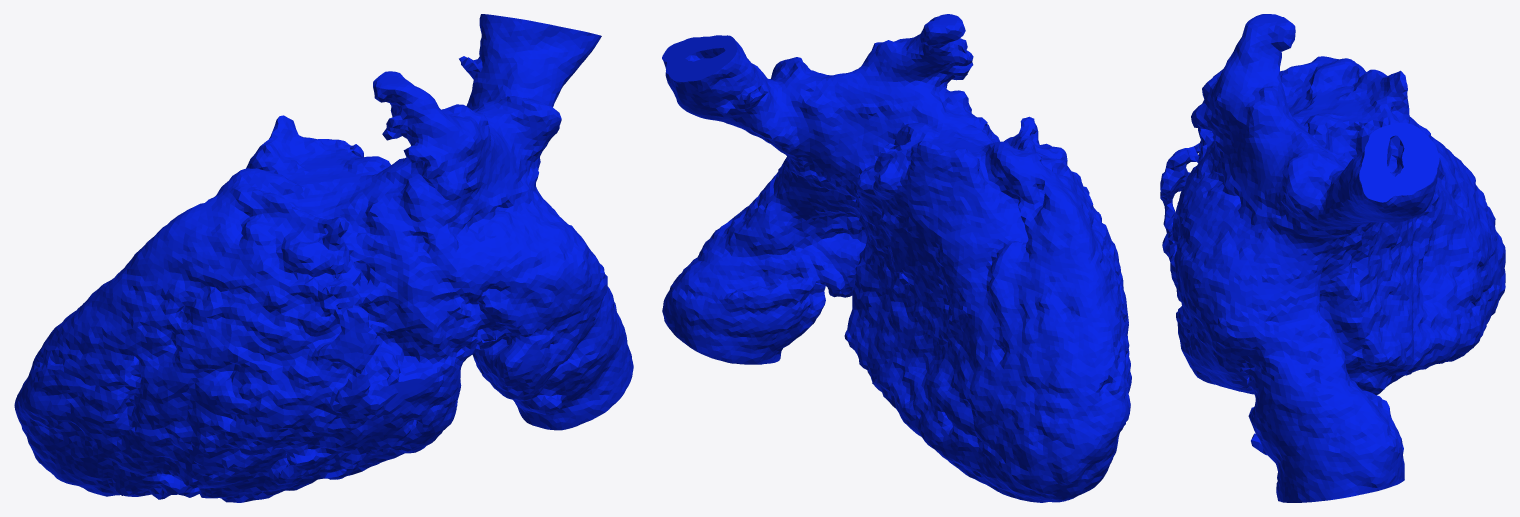
The model's file is BFLS2018004.glb.
3 views of the same model, side by side, from view 1: azimuth 30°, elevation 25°; view 2: azimuth 150°, elevation 25°; view 3: azimuth 270°, elevation 25° (orthographic). The views are drawn at different scales.
Visible parts, largest first — view 1: 2018004 Baffle Leak Left Side; view 2: 2018004 Baffle Leak Left Side; view 3: 2018004 Baffle Leak Left Side.
Boxes of the visible parts, x1=… form: 2018004 Baffle Leak Left Side: x1=14, y1=14, x2=633, y2=502; 2018004 Baffle Leak Left Side: x1=662, y1=14, x2=1131, y2=502; 2018004 Baffle Leak Left Side: x1=1160, y1=14, x2=1505, y2=502.
Size of the model in its own units: 154 by 112 by 85.6.
